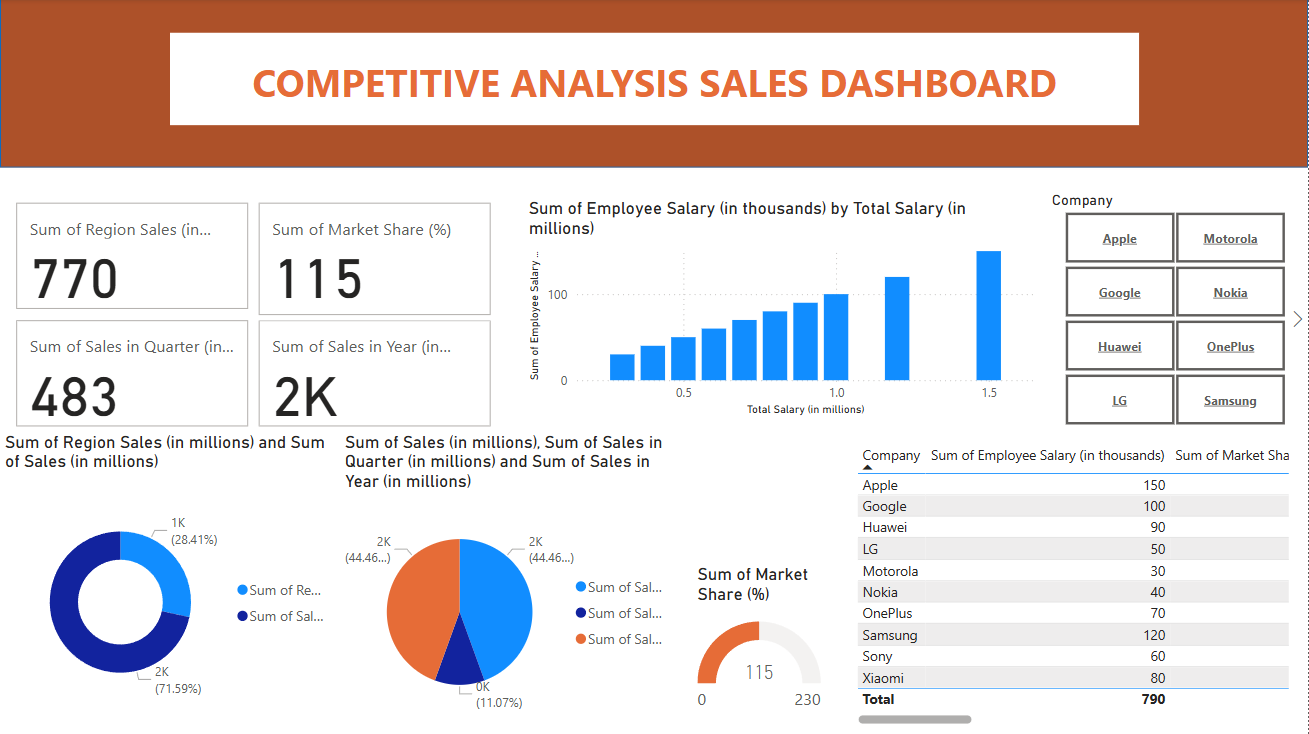

What the dashboard file says about the page in this screenshot:
{"tool":"powerbi","page":{"name":"Page 1","canvas":[1280,720],"ordinal":0},"visuals":[{"type":"donutChart","fields":{"Y":["Sum(Sheet1.Region Sales (in millions))","Sum(Sheet1.Sales (in millions))"]},"box":[0,423.6,333,295.8],"z":0},{"type":"columnChart","fields":{"Y":["Sum(Sheet1.Employee Salary (in thousands))"],"Category":["Sheet1.Total Salary (in millions)"]},"box":[512.8,194.7,503.9,218.5],"z":1000},{"type":"tableEx","fields":{"Values":["Sheet1.Company","Sum(Sheet1.Employee Salary (in thousands))","Sum(Sheet1.Market Share (%))","Sum(Sheet1.Region Sales (in millions))","Sum(Sheet1.Sales (in millions))","Sum(Sheet1.Sales in Quarter (in millions))","Sum(Sheet1.Sales in Year (in millions))","Sum(Sheet1.Total Salary (in millions))","Sum(Sheet1.Total Share (%))"]},"box":[832.7,430.2,433.2,283.9],"z":2000},{"type":"pieChart","fields":{"Y":["Sum(Sheet1.Sales (in millions))","Sum(Sheet1.Sales in Quarter (in millions))","Sum(Sheet1.Sales in Year (in millions))"]},"box":[333,423.6,331.5,295.8],"z":3000},{"type":"slicer","fields":{"Values":["Sheet1.Company"]},"box":[1015.6,182.9,264.9,240],"z":4000},{"type":"gauge","fields":{"Y":["Sum(Sheet1.Market Share (%))"]},"box":[677.8,552.9,130.8,166.5],"z":5000},{"type":"cardVisual","fields":{"Data":["Sum(Sheet1.Sales in Year (in millions))"]},"box":[248.2,309.2,237.8,114.5],"z":6000},{"type":"cardVisual","fields":{"Data":["Sum(Sheet1.Sales in Quarter (in millions))"]},"box":[10.4,309.2,237.8,114.5],"z":7000},{"type":"cardVisual","fields":{"Data":["Sum(Sheet1.Region Sales (in millions))"]},"box":[10.4,194.7,237.8,114.5],"z":8000},{"type":"cardVisual","fields":{"Data":["Sum(Sheet1.Market Share (%))"]},"box":[248.2,194.7,237.8,120.4],"z":9000},{"type":"textbox","box":[10,0,238,150],"z":10000},{"type":"shape","box":[0,0,1279.8,165],"z":11000},{"type":"textbox","box":[166.5,32.7,948.3,90.7],"z":12000},{"type":"qnaVisual","box":[1266.4,175.4,13.4,7.4],"z":13000}]}

Visuals, with their boxes in screenshot pixels (x1, y1, x2, y2), scaled from the page's 1280x720 canvas onto the 1309x734 screenshot:
donutChart - Sum(Sheet1.Region Sales (in millions)) x Sum(Sheet1.Sales (in millions)): {"x1": 0, "y1": 432, "x2": 341, "y2": 733}
columnChart - Sum(Sheet1.Employee Salary (in thousands)) x Sheet1.Total Salary (in millions): {"x1": 524, "y1": 198, "x2": 1040, "y2": 421}
tableEx - Sheet1.Company x Sum(Sheet1.Employee Salary (in thousands)): {"x1": 852, "y1": 439, "x2": 1295, "y2": 728}
pieChart - Sum(Sheet1.Sales (in millions)) x Sum(Sheet1.Sales in Quarter (in millions)): {"x1": 341, "y1": 432, "x2": 680, "y2": 733}
slicer - Sheet1.Company: {"x1": 1039, "y1": 186, "x2": 1308, "y2": 431}
gauge - Sum(Sheet1.Market Share (%)): {"x1": 693, "y1": 564, "x2": 827, "y2": 733}
cardVisual - Sum(Sheet1.Sales in Year (in millions)): {"x1": 254, "y1": 315, "x2": 497, "y2": 432}
cardVisual - Sum(Sheet1.Sales in Quarter (in millions)): {"x1": 11, "y1": 315, "x2": 254, "y2": 432}
cardVisual - Sum(Sheet1.Region Sales (in millions)): {"x1": 11, "y1": 198, "x2": 254, "y2": 315}
cardVisual - Sum(Sheet1.Market Share (%)): {"x1": 254, "y1": 198, "x2": 497, "y2": 321}
textbox: {"x1": 10, "y1": 0, "x2": 254, "y2": 153}
shape: {"x1": 0, "y1": 0, "x2": 1308, "y2": 168}
textbox: {"x1": 170, "y1": 33, "x2": 1140, "y2": 126}
qnaVisual: {"x1": 1295, "y1": 179, "x2": 1308, "y2": 186}
